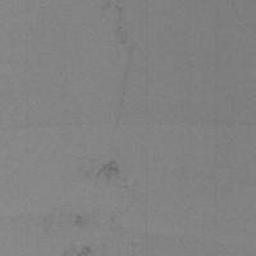Water spot: (110, 0, 134, 140), (93, 159, 120, 183), (61, 246, 95, 256), (73, 212, 83, 228)
